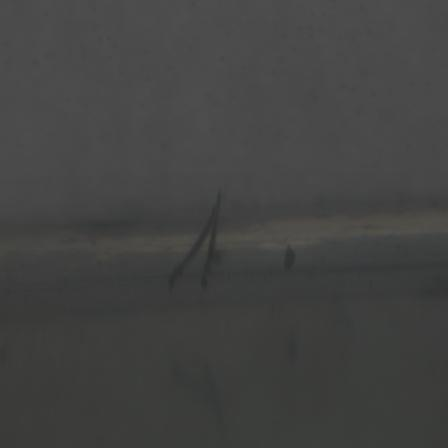Jentik-Nyamuk: (164, 184, 225, 297)
